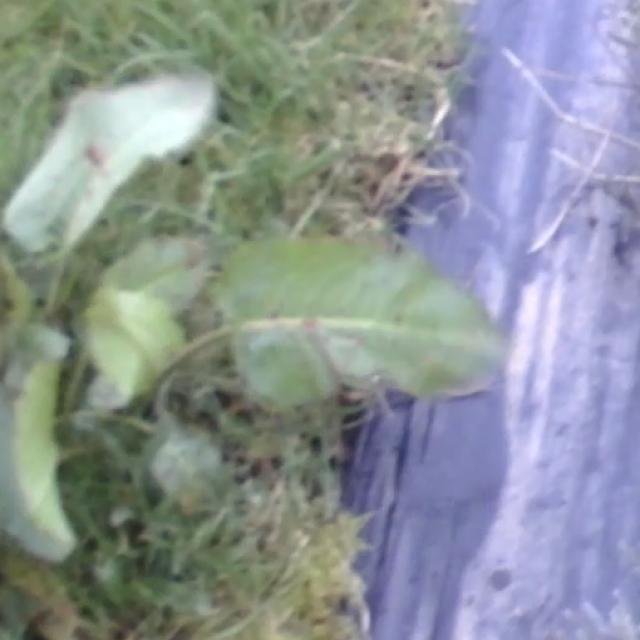organic waste: (0, 12, 528, 535)
